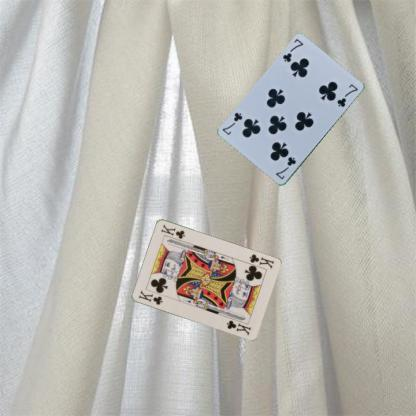7c: (280, 36, 305, 64), (273, 154, 298, 181)
Kc: (247, 251, 275, 270), (136, 288, 163, 306)
